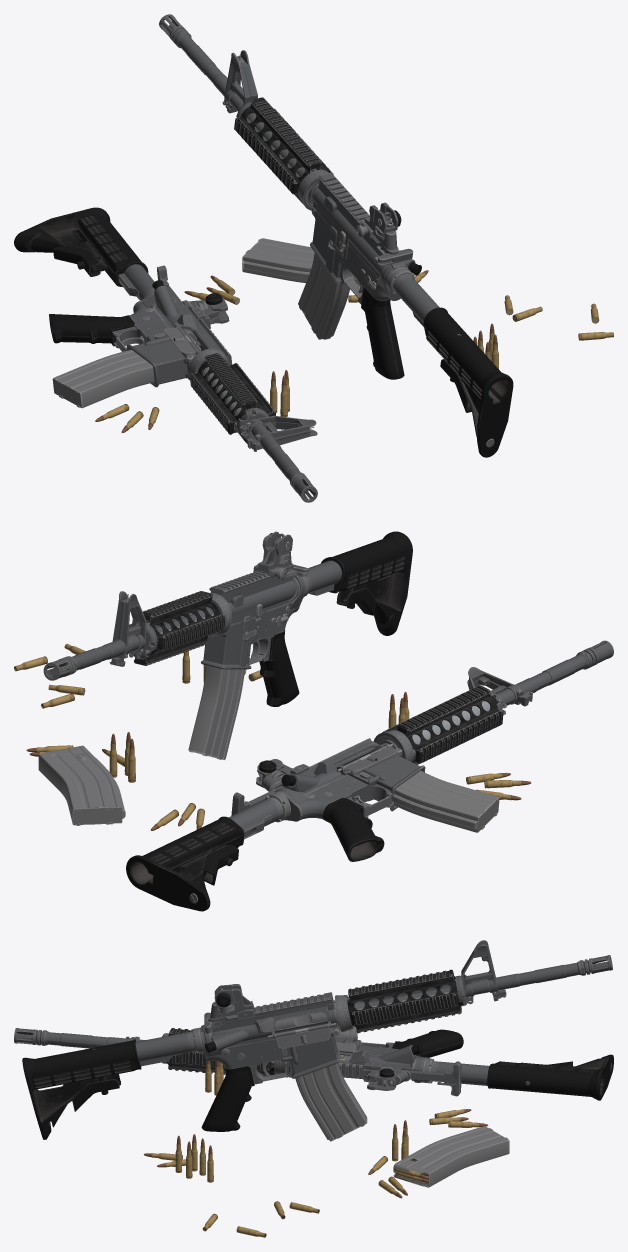
The picture shows the model from 3 angles, top to bottom: view 1: azimuth 30°, elevation 25°; view 2: azimuth 150°, elevation 25°; view 3: azimuth 270°, elevation 25°; orthographic projection. The views are drawn at different scales.
Parts seen in each view (by area): view 1: base, base.001, part_low, part_low.001, magazine.001, magazine, magazine.002, rear sight.001, rear sight.002; view 2: base.001, base, part_low.001, part_low, magazine.002, magazine.001, magazine, rear sight.001, rear sight.002, part.043_low.001; view 3: base, base.001, part_low, part_low.001, magazine.002, magazine, rear sight.001, rear sight.002, part.043_low, charging handle.001, bolt.
Boxes of the visible parts, x1,y1,x2,y2 form: base: (159, 14, 460, 379); base.001: (49, 264, 317, 502); part_low: (423, 307, 513, 457); part_low.001: (14, 207, 148, 286); magazine.001: (52, 349, 154, 408); magazine: (298, 253, 349, 339); magazine.002: (242, 238, 360, 286); rear sight.001: (356, 202, 401, 250); rear sight.002: (188, 293, 229, 328); base.001: (229, 640, 613, 861); base: (43, 560, 341, 706); part_low.001: (126, 816, 244, 911); part_low: (321, 531, 412, 635); magazine.002: (38, 745, 125, 825); magazine.001: (391, 771, 499, 832); magazine: (188, 665, 244, 759); rear sight.001: (253, 531, 292, 580); rear sight.002: (256, 759, 309, 791); part.043_low.001: (344, 746, 396, 771); base: (135, 940, 612, 1131); base.001: (14, 1028, 529, 1085); part_low: (22, 1039, 141, 1139); part_low.001: (487, 1054, 613, 1100); magazine.002: (393, 1126, 509, 1187); magazine: (295, 1063, 367, 1141); rear sight.001: (210, 984, 254, 1019); rear sight.002: (363, 1063, 408, 1090); part.043_low: (275, 1023, 330, 1048); charging handle.001: (408, 1061, 461, 1096); bolt: (274, 1012, 325, 1029).
Bounding box in the file's own units: 0.7284 × 0.3137 × 0.8672.
Materials: 2 (2 with a texture image).
